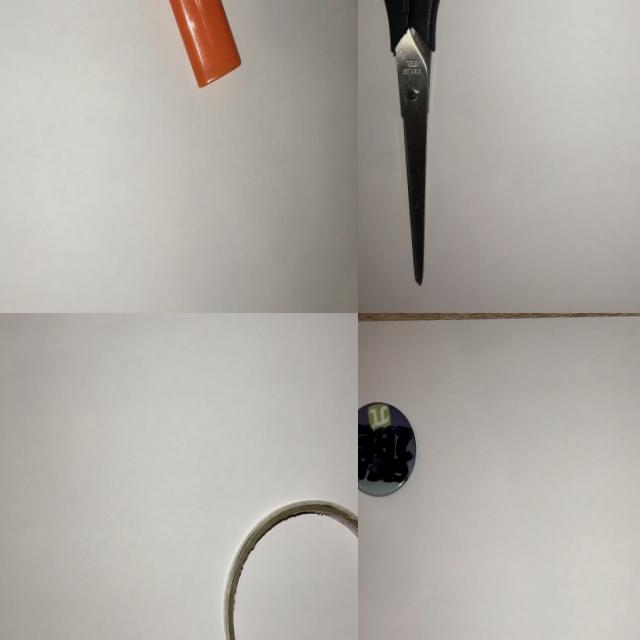icon: (358, 392, 424, 505)
lighter: (127, 0, 248, 95)
scissors: (358, 0, 484, 294)
scotch: (216, 488, 358, 640)
